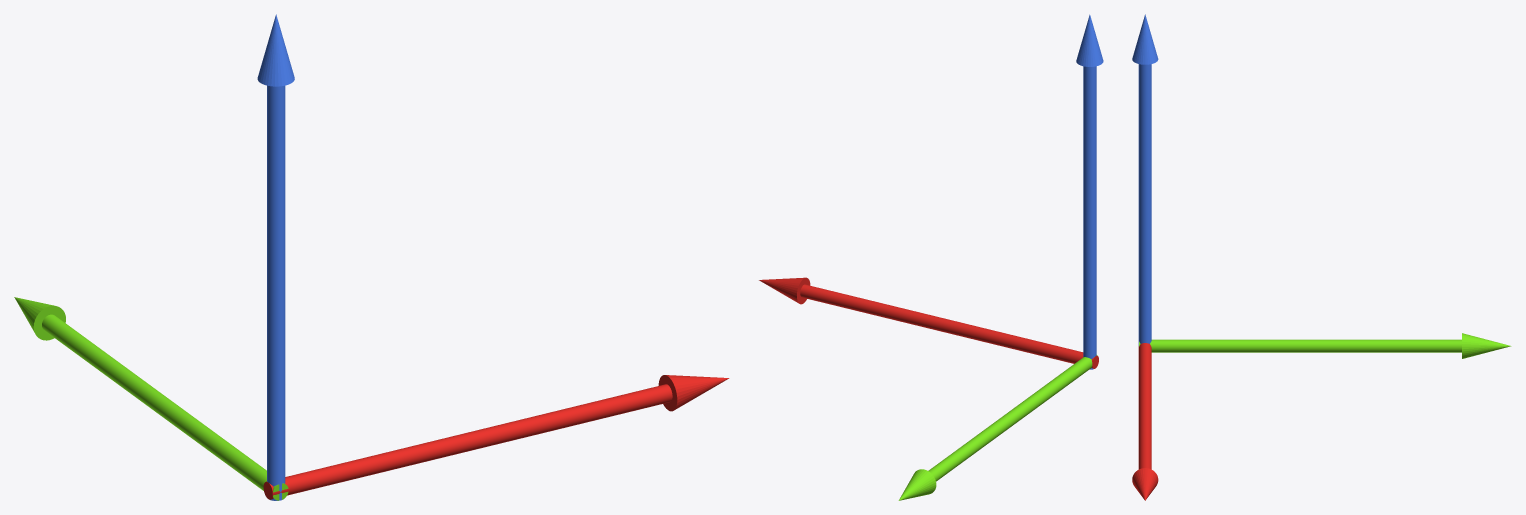
3 renders of one model, left to right at view 1: azimuth 30°, elevation 25°; view 2: azimuth 150°, elevation 25°; view 3: azimuth 270°, elevation 25°, orthographic. The views are drawn at different scales.
Parts seen in each view (by area): view 1: Y, X, Z; view 2: Y, X, Z; view 3: Z, Y, X.
Part boxes in pixels (<box>): Y: <box>257,14,294,500</box>; X: <box>263,375,729,499</box>; Z: <box>14,297,288,500</box>; Y: <box>1076,14,1103,369</box>; X: <box>759,277,1098,368</box>; Z: <box>898,355,1097,500</box>; Z: <box>1139,333,1511,358</box>; Y: <box>1132,14,1158,345</box>; X: <box>1132,343,1158,500</box>.
Bounding box in the file's own units: 31.9 × 31.9 × 31.91.
